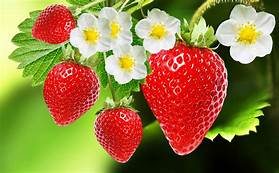Fresa: (137, 36, 229, 160), (40, 56, 103, 132), (92, 103, 145, 167), (29, 1, 81, 50)
